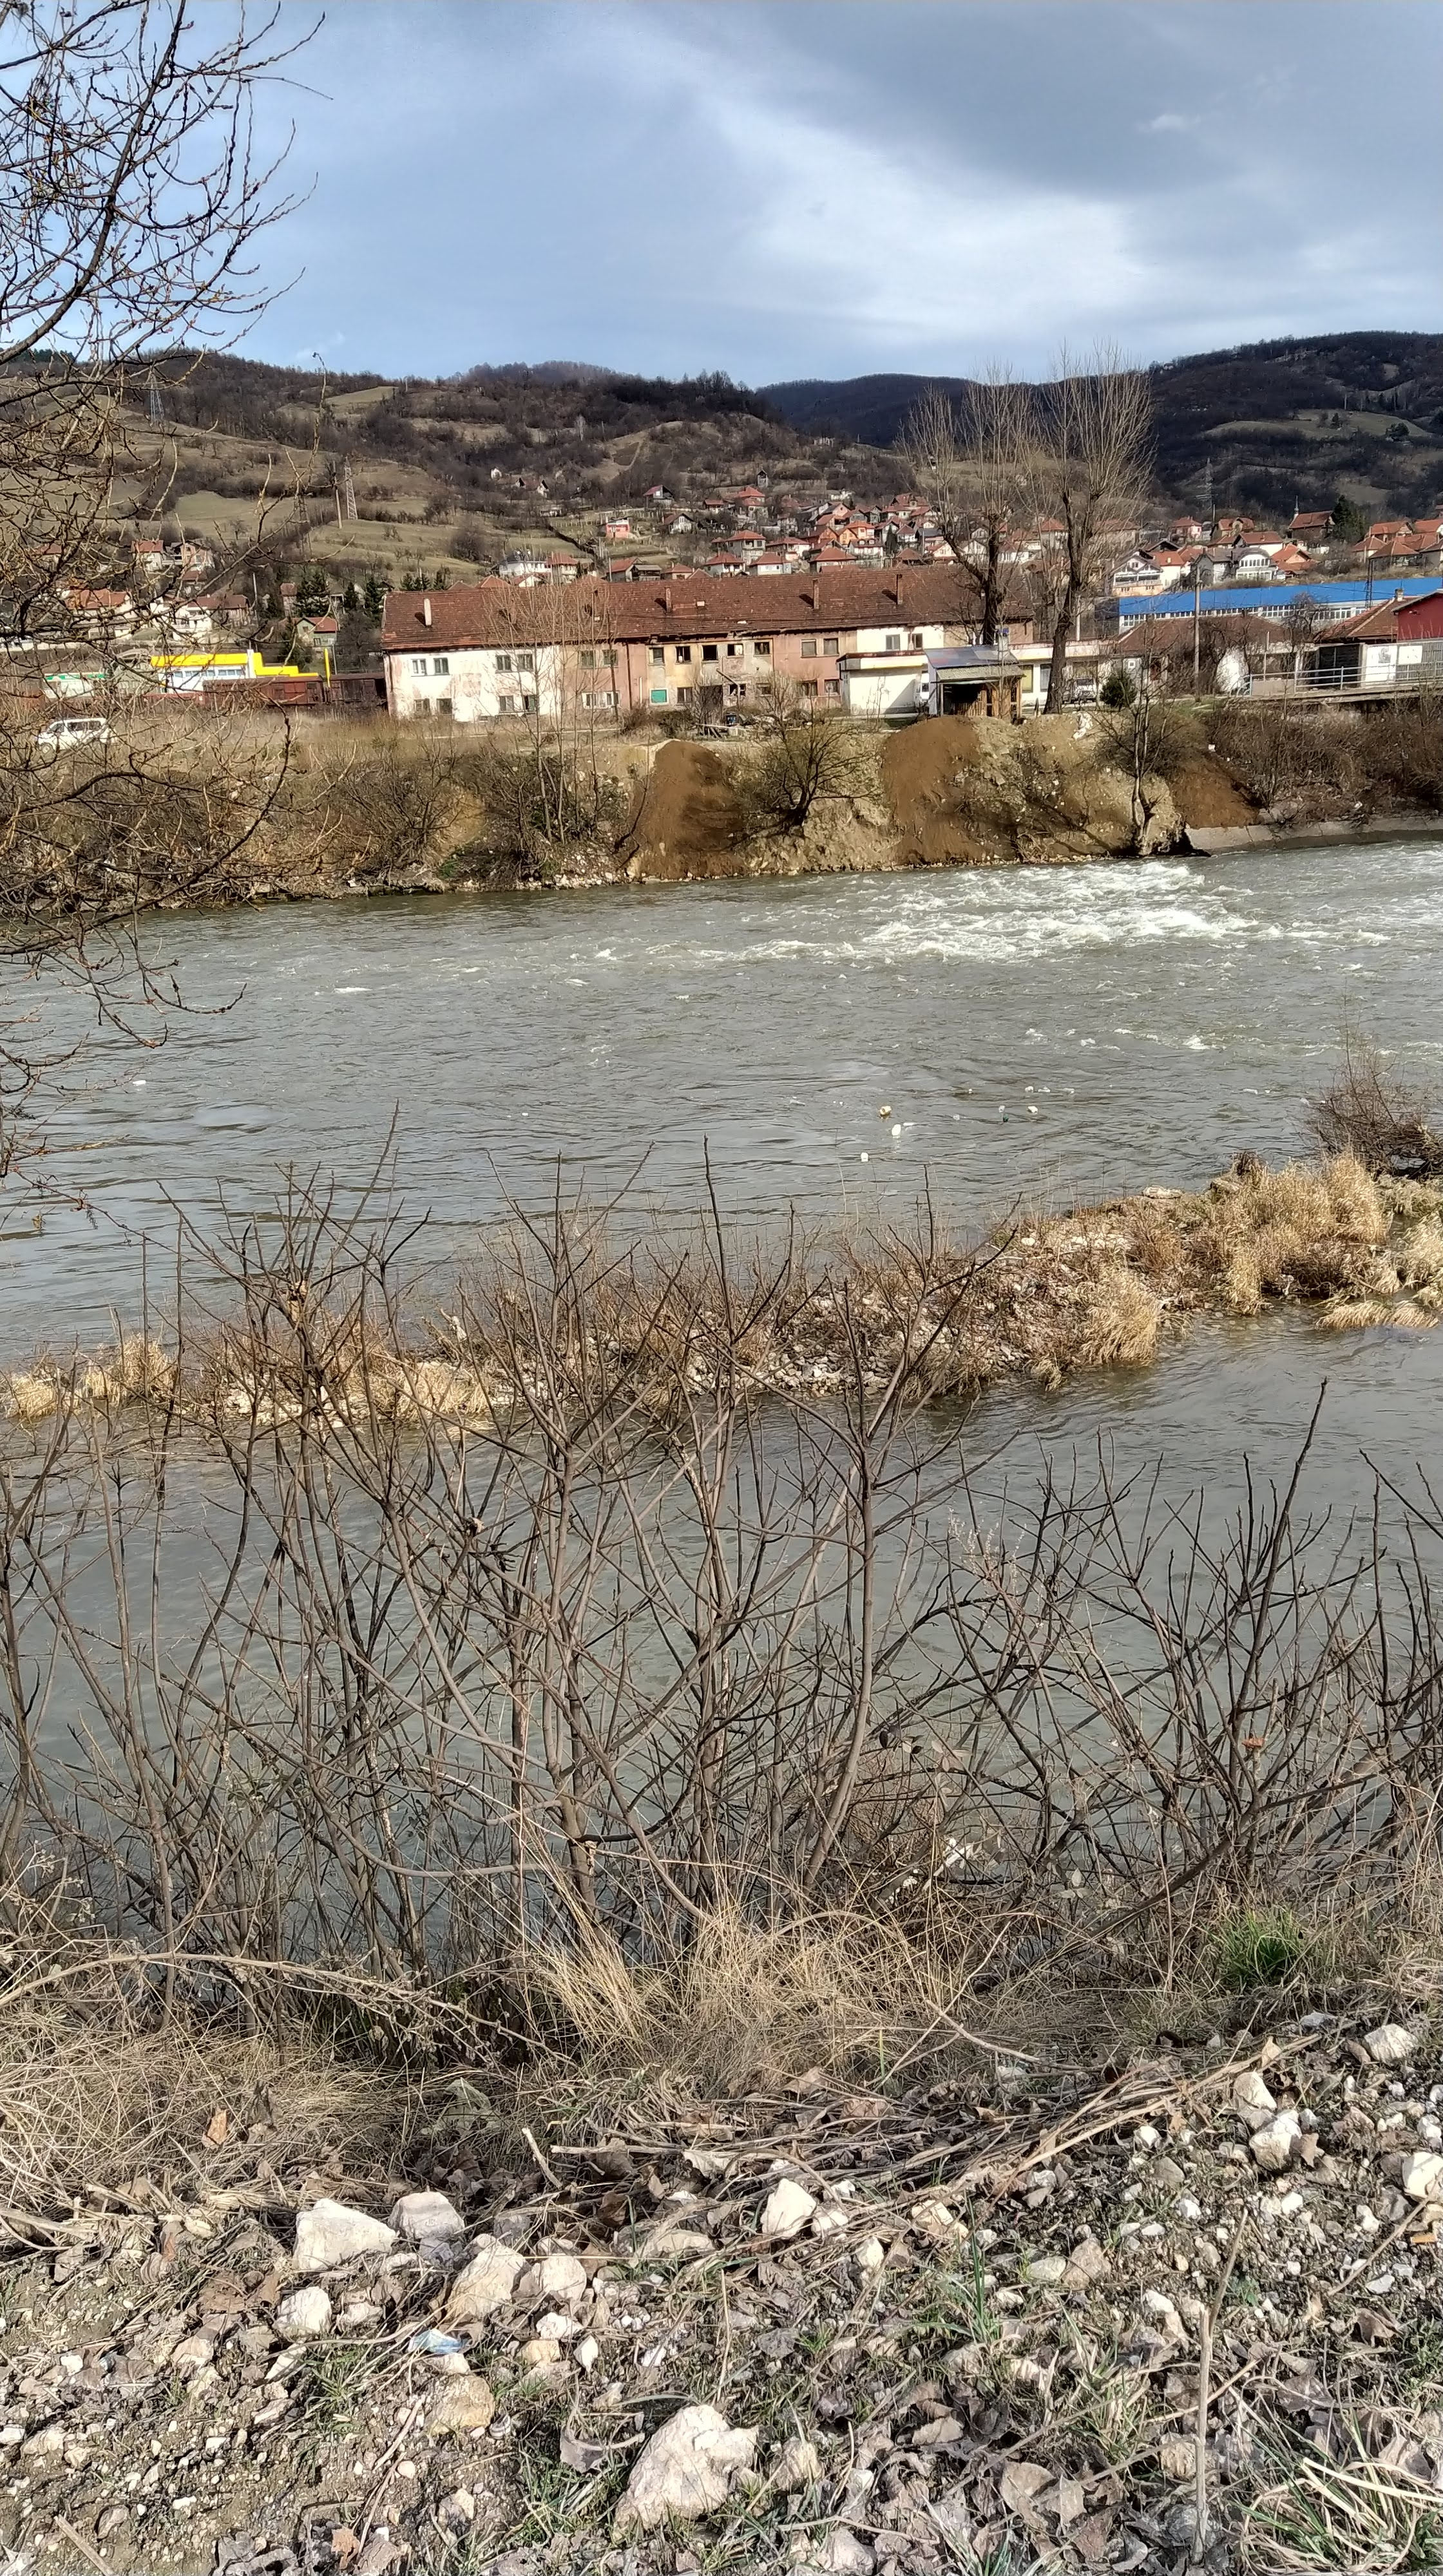Plastic Bottle: (891, 1123, 901, 1136), (880, 1106, 891, 1115), (860, 1152, 869, 1162), (133, 1079, 147, 1085), (1245, 1088, 1257, 1093), (1064, 1086, 1075, 1092), (999, 1106, 1004, 1113), (953, 1113, 958, 1120), (1004, 1115, 1007, 1122)
